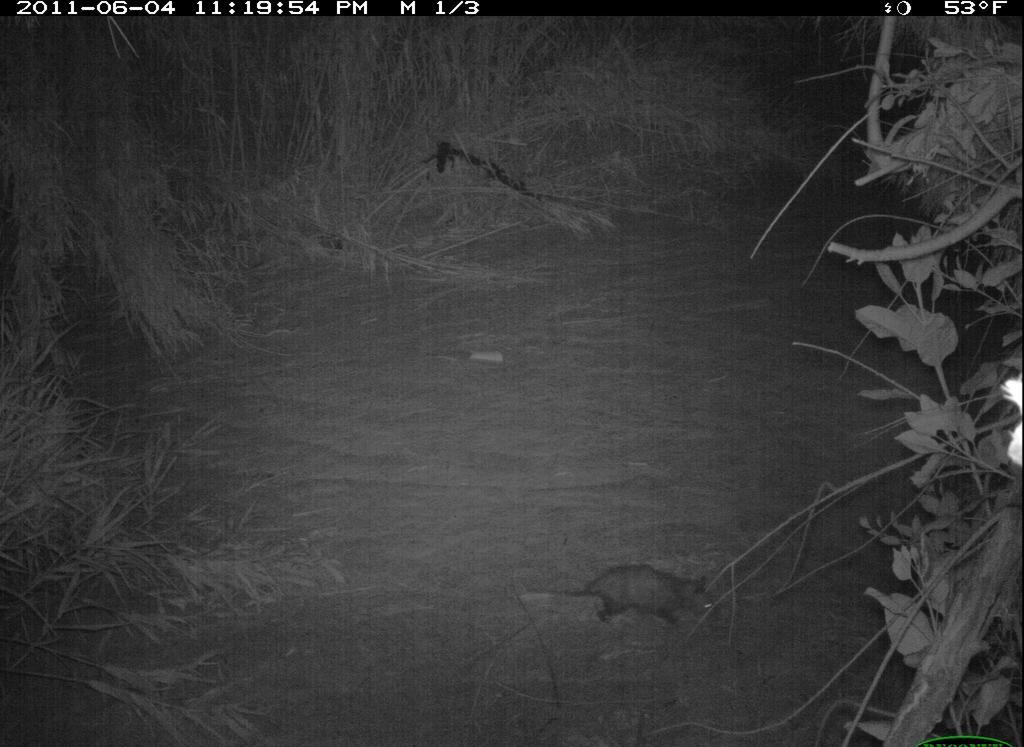opossum: (504, 539, 737, 647)
